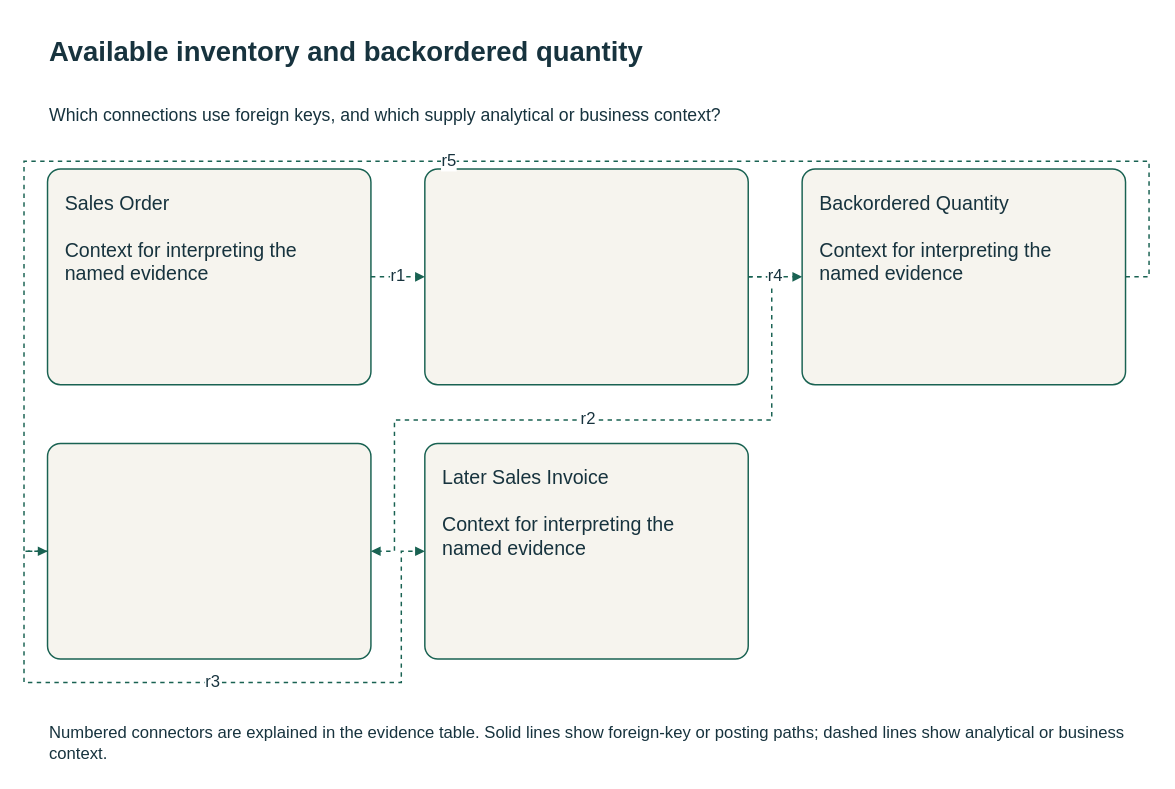
This 1175x789 diagram has some shape labels left out. The box of each missing label's shape, as (x1, y1, x2, y2) in pixels:
Available Finished Goods Context for interpreting the named evidence: (424, 168, 749, 385)
Later Shipment Context for interpreting the named evidence: (46, 442, 371, 659)
